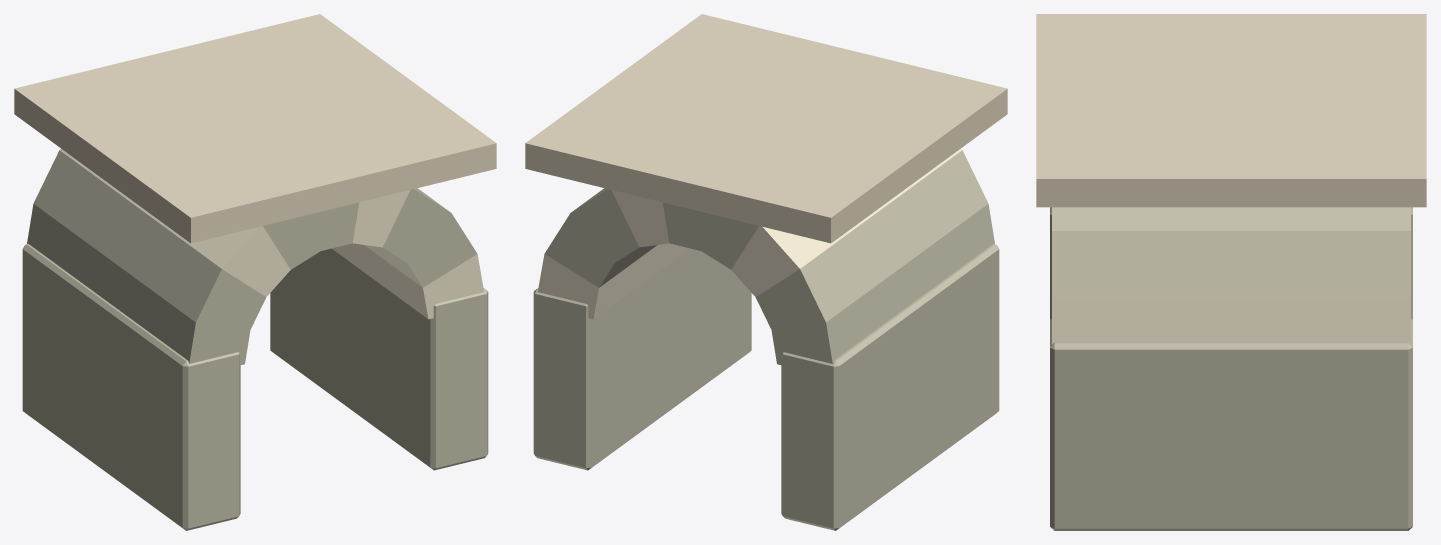
The model's file is arch.glb.
3 views of the same model, side by side, from view 1: azimuth 30°, elevation 25°; view 2: azimuth 150°, elevation 25°; view 3: azimuth 270°, elevation 25° (orthographic). The views are drawn at different scales.
Parts seen in each view (by area): view 1: Bridge deck, Pier, Pier.001, Voussoir_07, Voussoir_08, Voussoir_06, Voussoir_00, Voussoir_01, Voussoir_02, Voussoir_03, Voussoir_05, Voussoir_04; view 2: Bridge deck, Pier, Pier.001, Voussoir_07, Voussoir_08, Voussoir_06, Voussoir_00, Voussoir_01, Voussoir_02, Voussoir_03, Voussoir_05, Voussoir_04; view 3: Bridge deck, Pier.001, Voussoir_01, Voussoir_00, Voussoir_02.
Part boxes in pixels (box(x1,y1,x2,y2)): Bridge deck: box(14, 14, 496, 243); Pier: box(22, 244, 240, 530); Pier.001: box(270, 248, 488, 470); Voussoir_07: box(33, 150, 266, 329); Voussoir_08: box(27, 204, 250, 365); Voussoir_06: box(60, 148, 290, 296); Voussoir_00: box(332, 243, 484, 319); Voussoir_01: box(364, 213, 477, 287); Voussoir_02: box(382, 188, 450, 262); Voussoir_03: box(352, 190, 410, 247); Voussoir_05: box(263, 213, 320, 269); Voussoir_04: box(314, 202, 359, 250); Bridge deck: box(525, 14, 1007, 243); Pier: box(781, 244, 999, 530); Pier.001: box(533, 248, 751, 470); Voussoir_07: box(755, 150, 988, 329); Voussoir_08: box(771, 204, 994, 365); Voussoir_06: box(731, 148, 961, 296); Voussoir_00: box(537, 243, 689, 319); Voussoir_01: box(544, 213, 657, 287); Voussoir_02: box(571, 188, 639, 262); Voussoir_03: box(611, 190, 669, 247); Voussoir_05: box(701, 213, 758, 269); Voussoir_04: box(662, 202, 707, 250); Bridge deck: box(1036, 14, 1426, 207); Pier.001: box(1050, 318, 1412, 530); Voussoir_01: box(1052, 231, 1410, 297); Voussoir_00: box(1052, 297, 1410, 344); Voussoir_02: box(1052, 207, 1410, 230).
Bounding box in the file's own units: 1 × 1 × 1.
